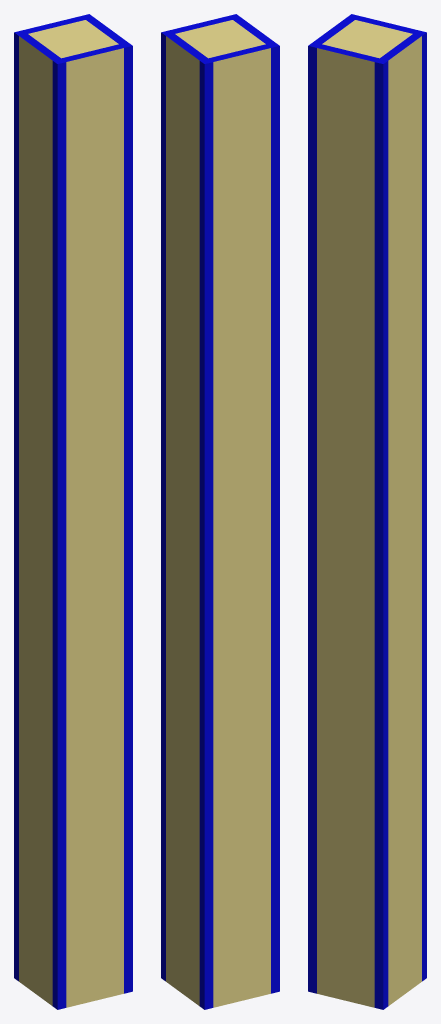
The model's file is platform.fbx.
The picture shows the model from 3 angles, left to right: view 1: azimuth 30°, elevation 25°; view 2: azimuth 210°, elevation 25°; view 3: azimuth 330°, elevation 25°; orthographic projection.
Parts seen in each view (by area): view 1: Cube.004; view 2: Cube.004; view 3: Cube.004.
Part boxes in pixels (box(x1,y1,x2,y2)): Cube.004: box(14, 14, 132, 1009); Cube.004: box(161, 14, 279, 1009); Cube.004: box(308, 14, 426, 1009).
Bounding box in the file's own units: 100 × 1200 × 100.
